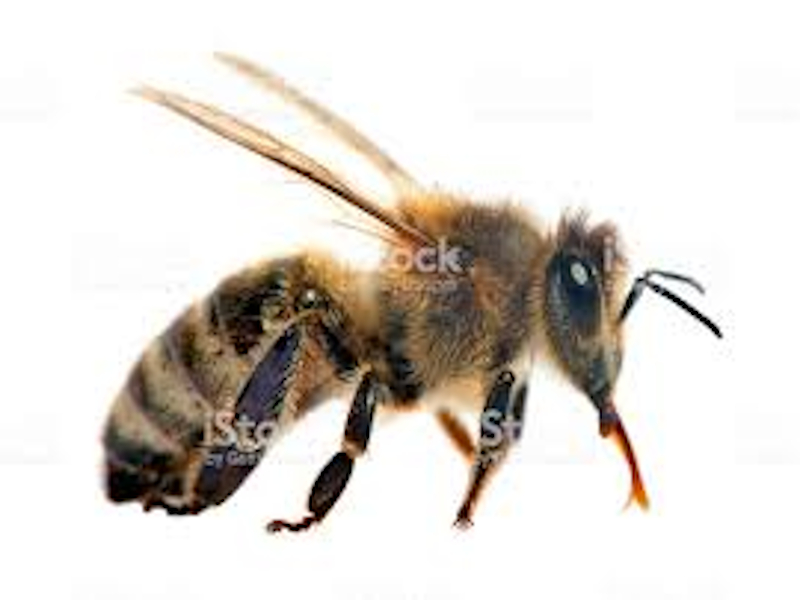abeja: (61, 37, 757, 584)
